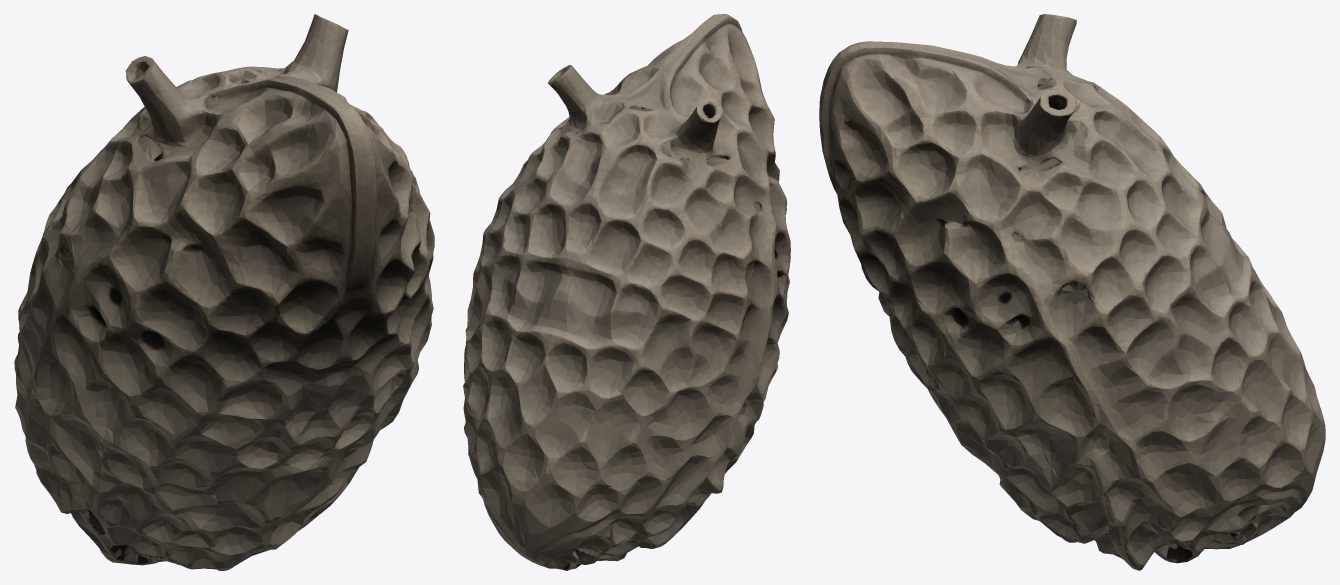
3 views of the same model, side by side, from view 1: azimuth 30°, elevation 25°; view 2: azimuth 150°, elevation 25°; view 3: azimuth 270°, elevation 25° (orthographic). The views are drawn at different scales.
Parts seen in each view (by area): view 1: world; view 2: world; view 3: world.
Part boxes in pixels (<box>): world: <box>14,14,434,570</box>; world: <box>463,14,790,570</box>; world: <box>819,14,1325,570</box>.
Size of the model in its own units: 0.6787 by 0.9991 by 0.9181.
Materials: 2 (1 with a texture image).
